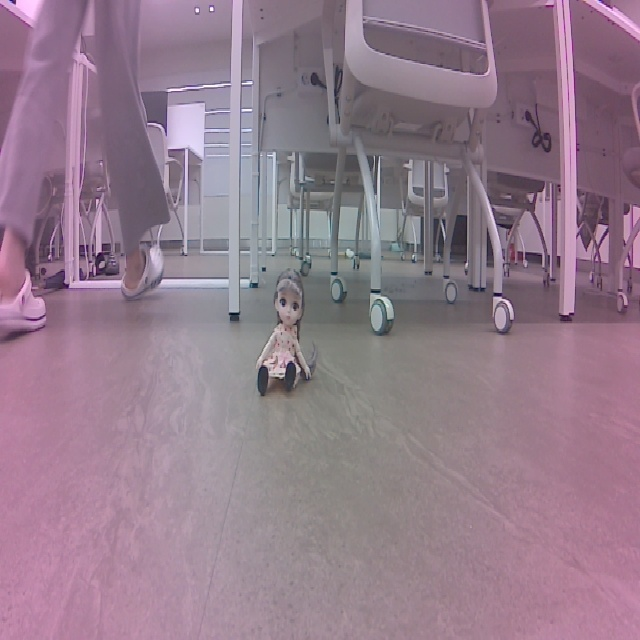장애물: (245, 263, 325, 407)
